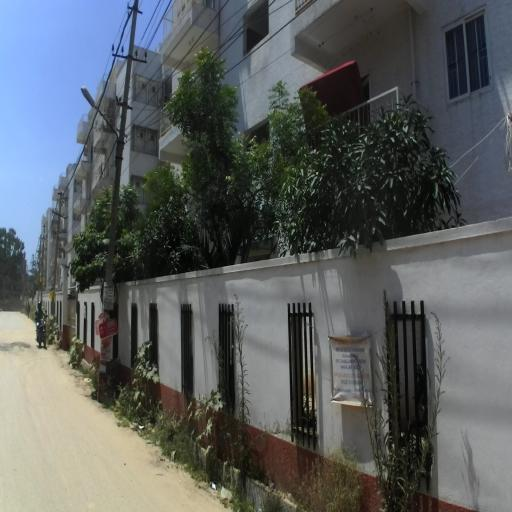street_light_0: (80, 86, 125, 167)
